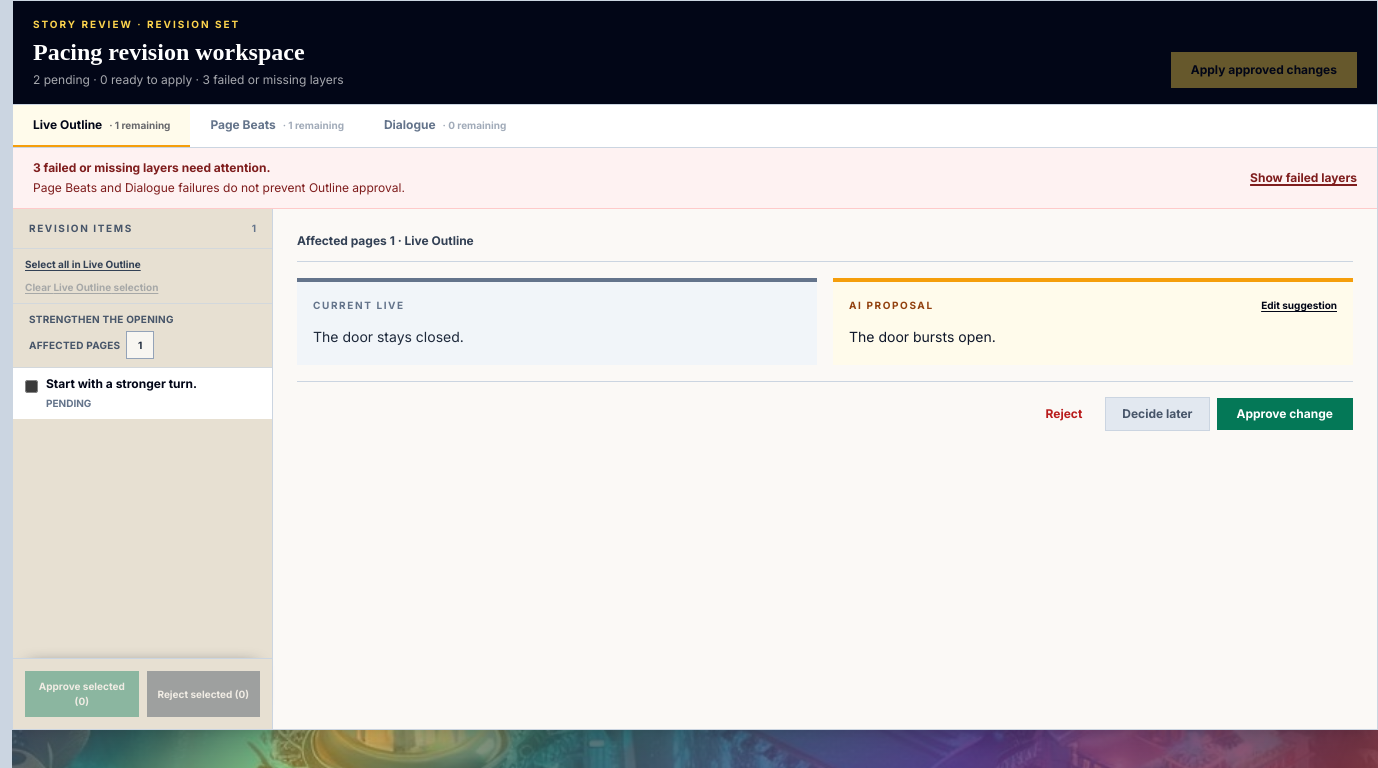
Test: WriterPacingRevisionWorkspace › shows only actual dependency blockers and hides the banner after resolution
Click the tab "Page Beats · 1 remaining" at x=277, y=126, box left=190, top=105, right=364, bottom=147
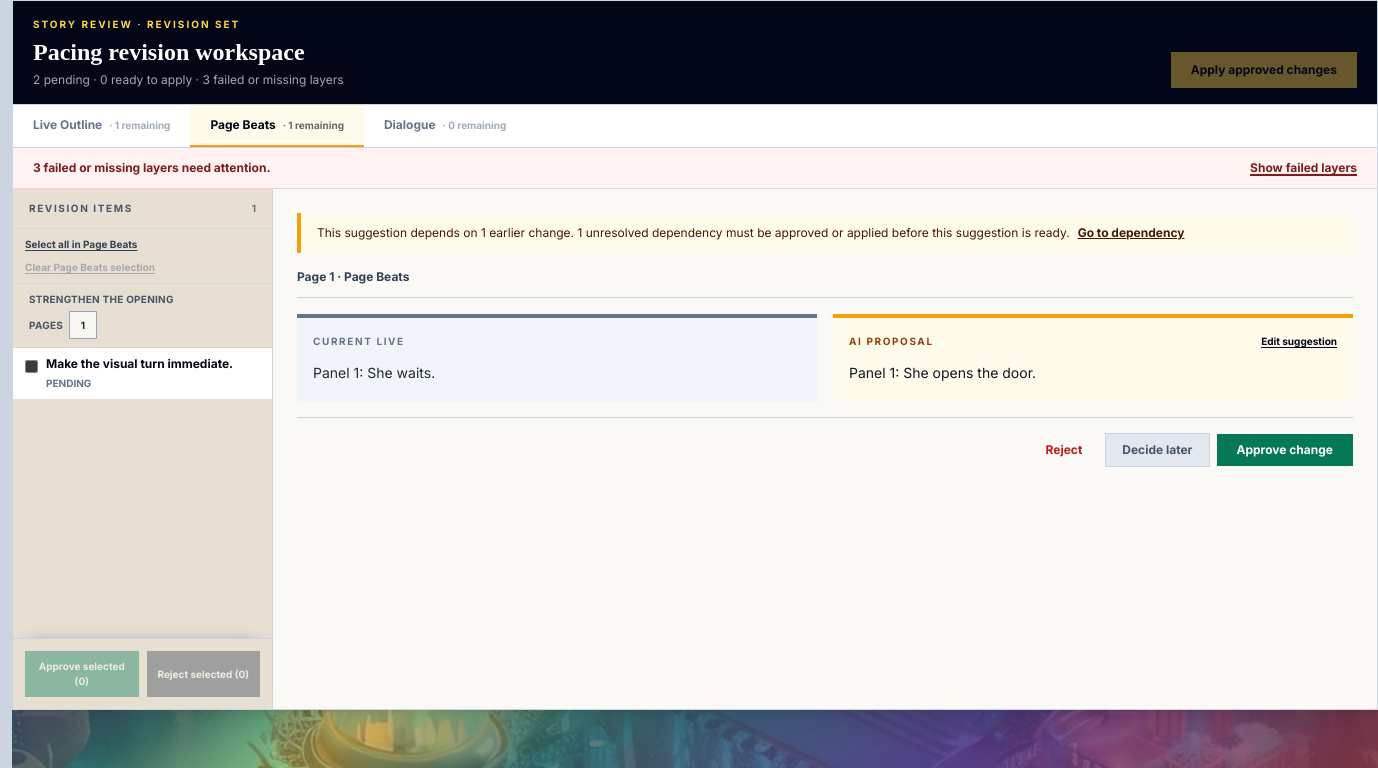
Expected: the element that starts with "This suggestion depends on" shows "1 unresolved dependency", left=297, top=213, right=1353, bottom=253
